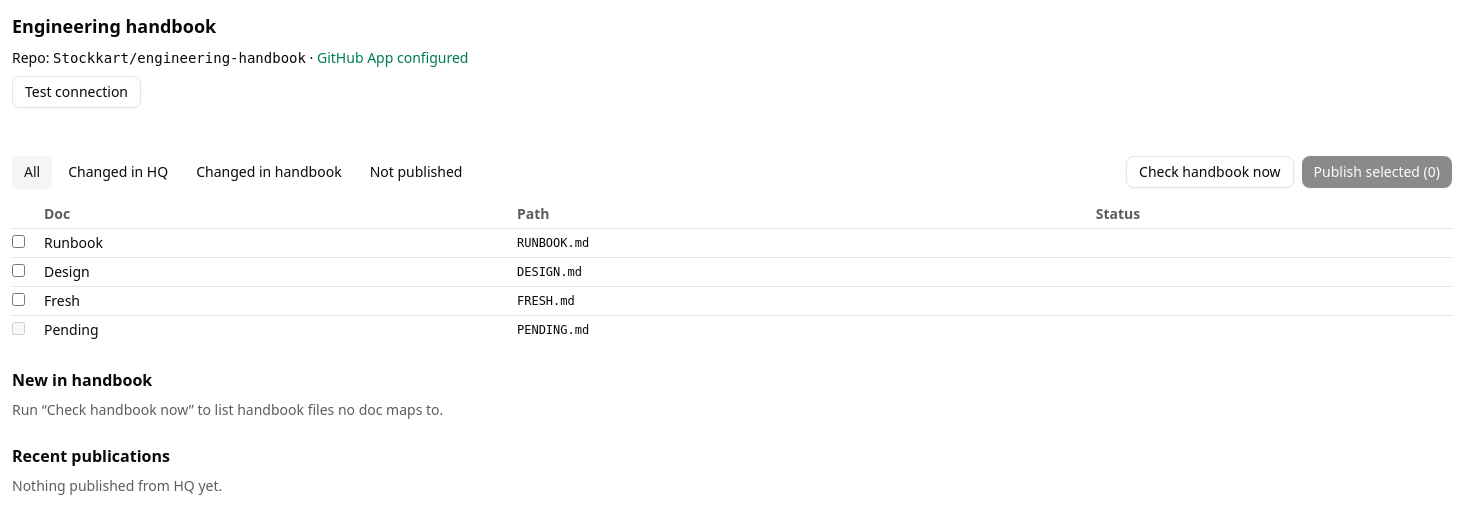
Test: Settings → Handbook tab (DOC-14) › tests the connection on click and shows ✓ or the classified reason
The image size is (1464, 512).
Click the button "Test connection": point(76, 92) top-left (12, 76), bottom-right (141, 108)
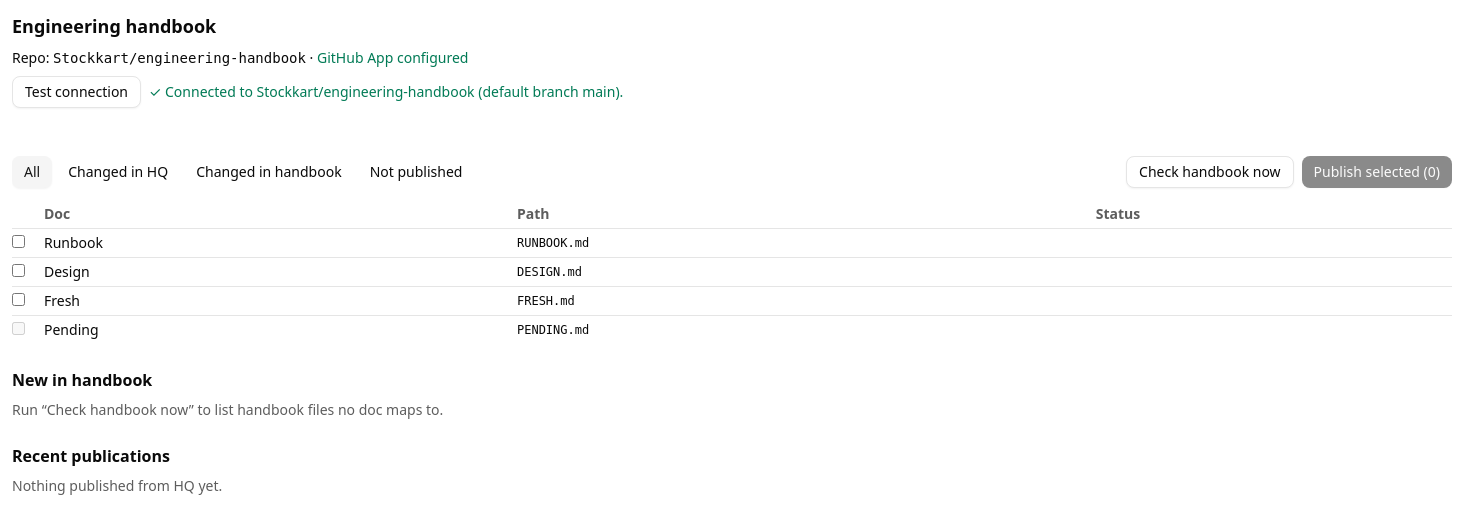
Now the text "✓ Connected to Stockkart/engineering-handbook (default branch main)." is shown, box top-left (149, 82), bottom-right (623, 102)
Click the button "Test connection": point(76, 92) top-left (12, 76), bottom-right (141, 108)
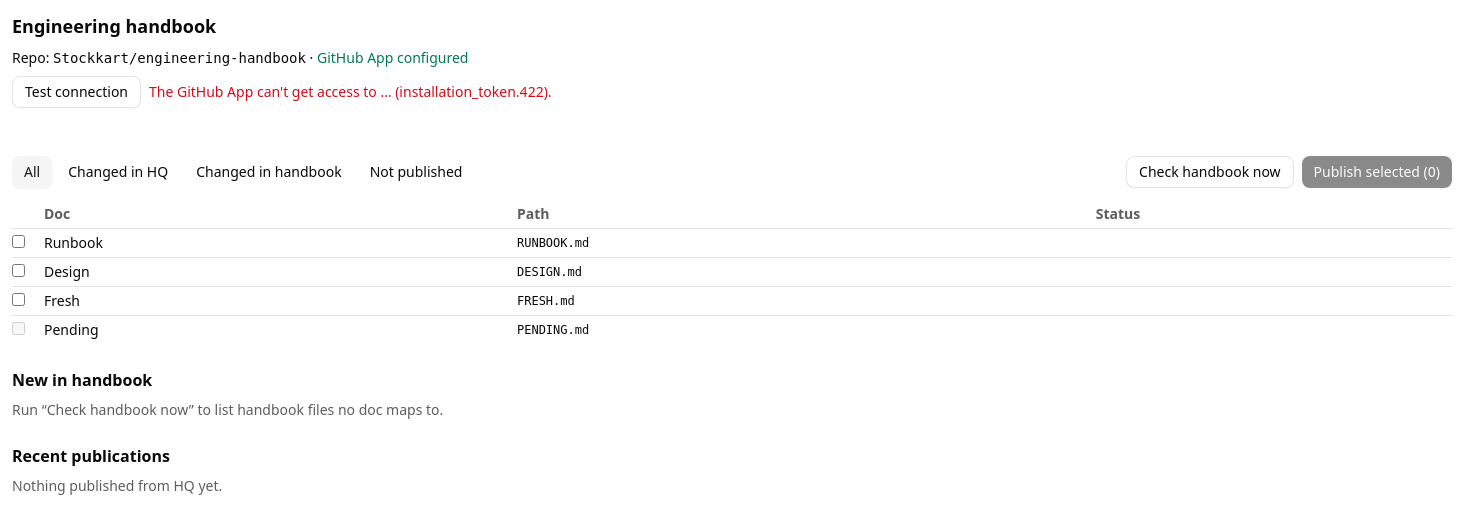
Now the text "installation_token.422" is shown, box top-left (149, 82), bottom-right (552, 101)
